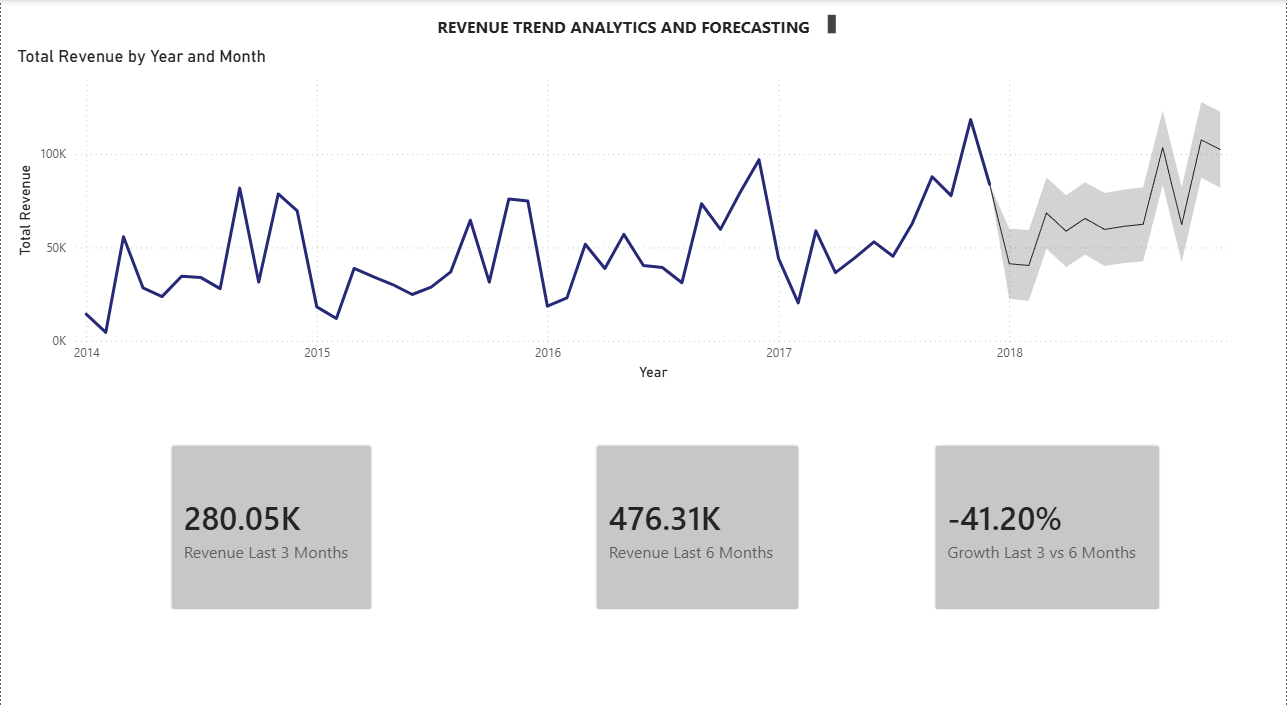

What the dashboard file says about the page in this screenshot:
{"tool":"powerbi","page":{"name":"Revenue trend analytics & Forecasting","canvas":[1280,720],"ordinal":4},"visuals":[{"type":"lineChart","fields":{"Y":["superstore_orders.Total Revenue"],"Category":["superstore_orders.Order_Date.Variation.Date Hierarchy.Year","superstore_orders.Order_Date.Variation.Date Hierarchy.Month"]},"box":[11.2,46,1220.3,337.1],"z":0},{"type":"cardVisual","fields":{"Data":["superstore_orders.Forecast Revenue Next 3 Months"]},"box":[151.8,425.4,235.1,199],"z":1000},{"type":"cardVisual","fields":{"Data":["superstore_orders.Forecast Revenue Next 6 Months"]},"box":[574.7,425.4,237.6,199],"z":2000},{"type":"cardVisual","fields":{"Data":["superstore_orders.Forecast Growth %"]},"box":[911.8,425.4,260,199],"z":3000},{"type":"textbox","box":[429.2,10,406.8,29.9],"z":4000}]}

Visuals, with their boxes in screenshot pixels (x1, y1, x2, y2), scaled from the page's 1280x720 canvas onto the 1287x706 screenshot:
lineChart - superstore_orders.Total Revenue x superstore_orders.Order_Date.Variation.Date Hierarchy.Year: locate(11, 45, 1238, 376)
cardVisual - superstore_orders.Forecast Revenue Next 3 Months: locate(153, 417, 389, 612)
cardVisual - superstore_orders.Forecast Revenue Next 6 Months: locate(578, 417, 817, 612)
cardVisual - superstore_orders.Forecast Growth %: locate(917, 417, 1178, 612)
textbox: locate(432, 10, 841, 39)
